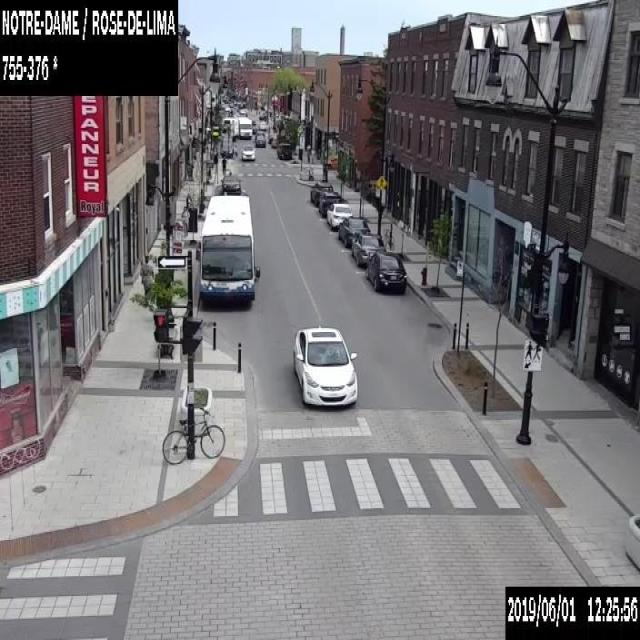bus: (195, 194, 260, 304)
pedestrian: (139, 254, 153, 304), (180, 205, 189, 235), (220, 155, 226, 174), (185, 192, 191, 205), (233, 144, 237, 159)
vehicle: (294, 326, 356, 407), (365, 251, 406, 290), (351, 233, 385, 264), (337, 217, 370, 246), (326, 202, 352, 228), (318, 190, 341, 217), (310, 180, 332, 207), (220, 174, 241, 193), (276, 142, 292, 160), (238, 116, 251, 138), (240, 144, 254, 159), (220, 137, 232, 153), (220, 143, 232, 157), (325, 156, 337, 170), (255, 134, 265, 146), (254, 132, 264, 140), (270, 137, 276, 146), (259, 121, 265, 129), (224, 105, 230, 110)
